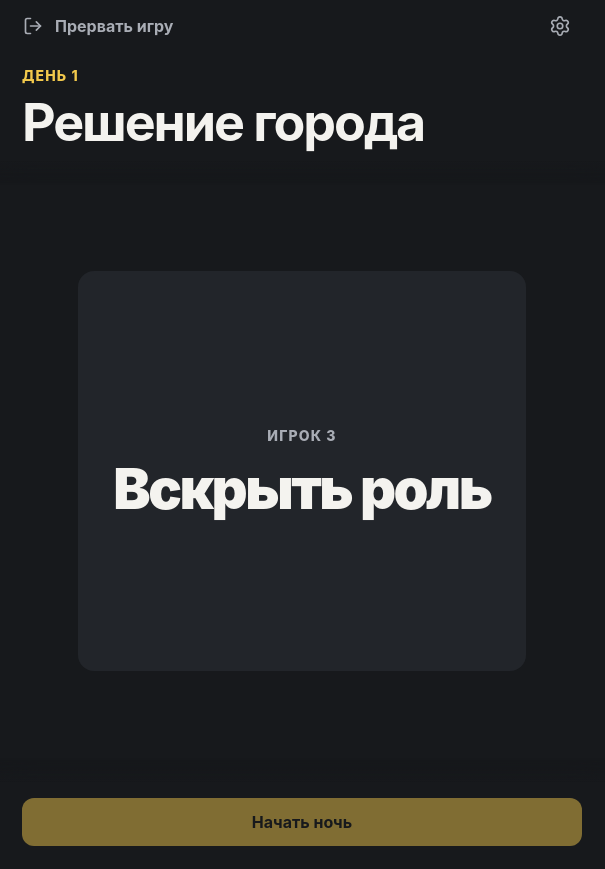
EliminationScreen › removes the flip lock for reduced motion
Click the button "Игрок 3 Вскрыть роль" at (302,471), box [78, 271, 526, 671]
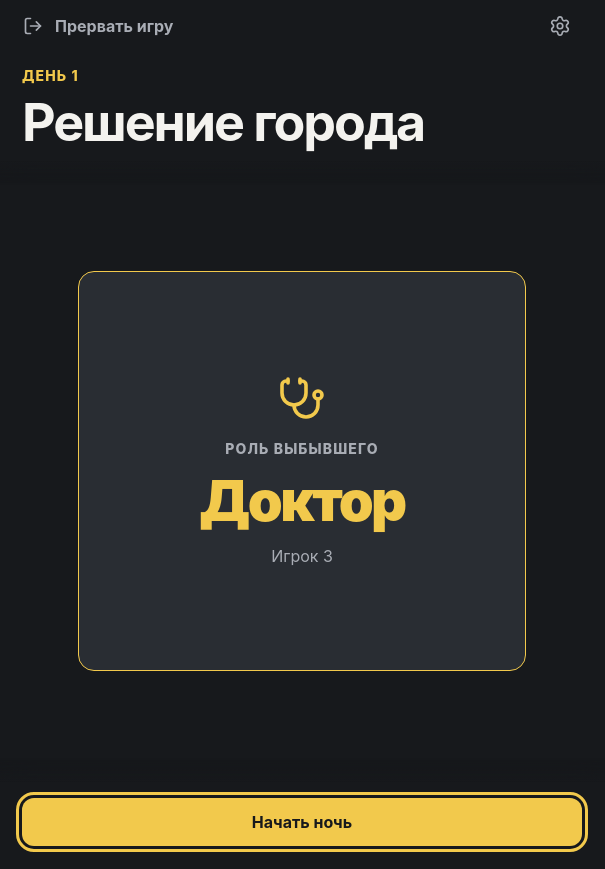
Now the button "Начать ночь" is enabled, box [22, 798, 582, 846]
